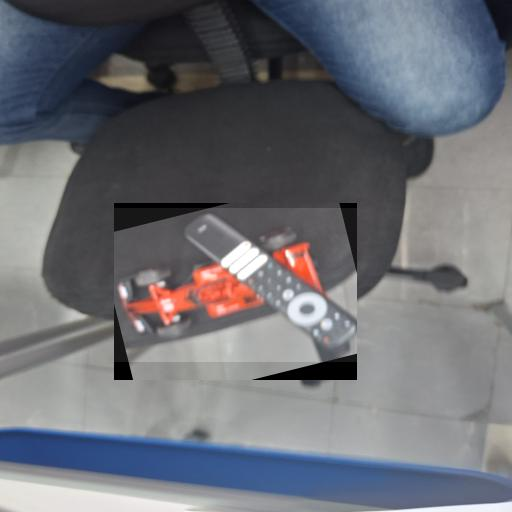carro: (114, 208, 357, 362)
